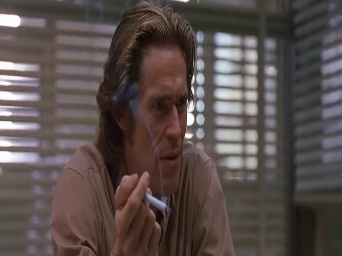smoke: (143, 193, 172, 213)
